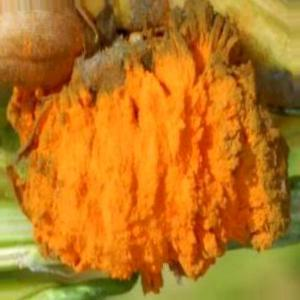Leaf_Scald: (128, 43, 184, 282), (76, 82, 132, 282), (225, 26, 272, 244), (177, 8, 214, 277), (17, 101, 81, 242)
